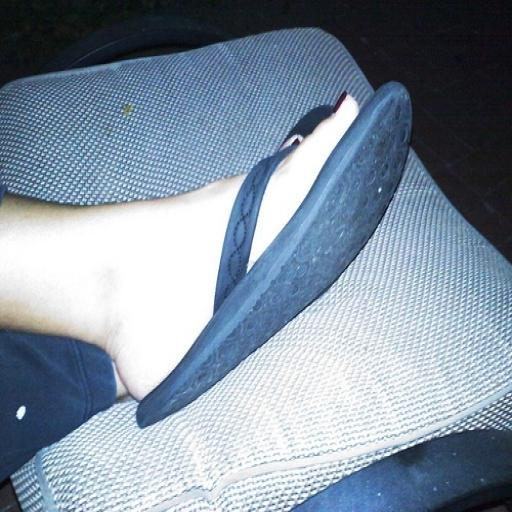flip-flop: (137, 82, 412, 427)
